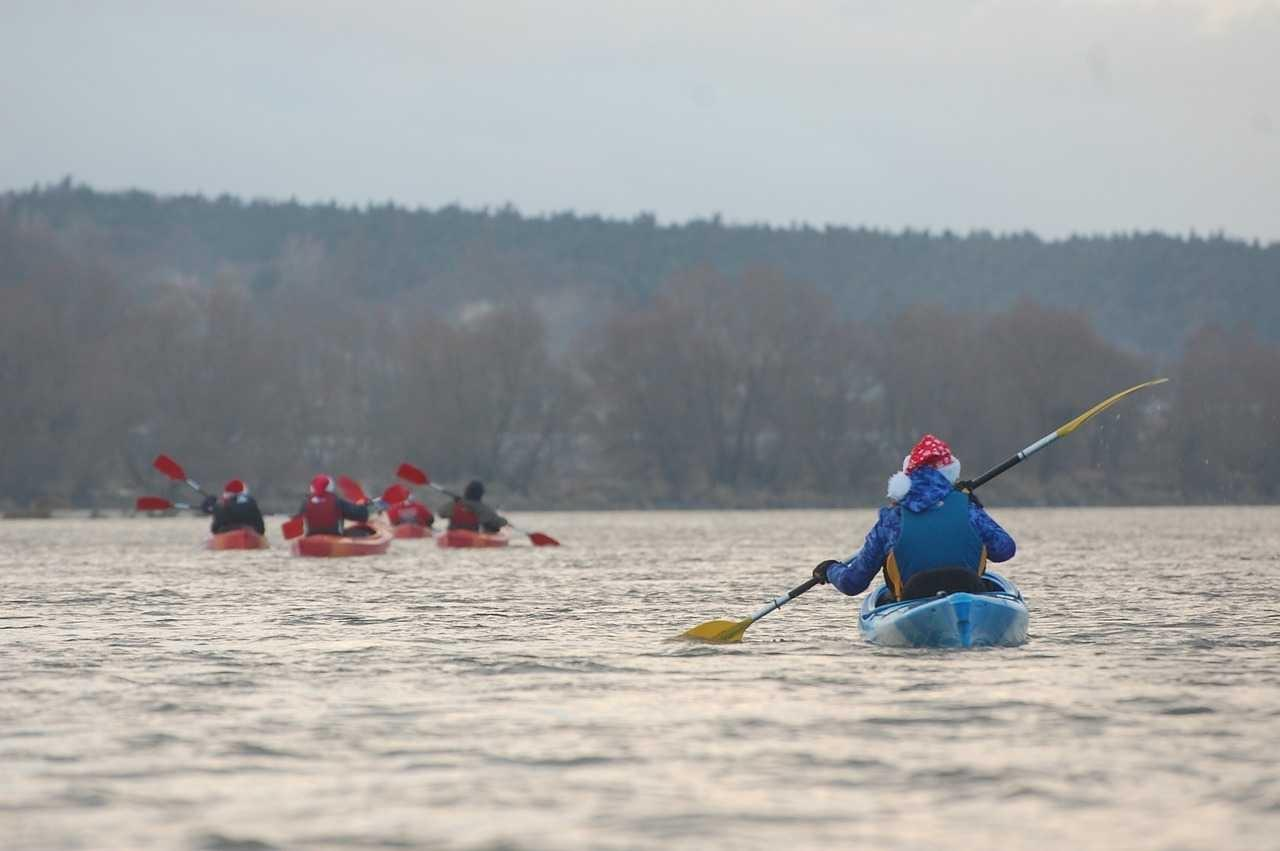kayak: (857, 578, 1031, 650), (287, 527, 393, 559), (199, 529, 271, 553), (434, 529, 511, 549)
